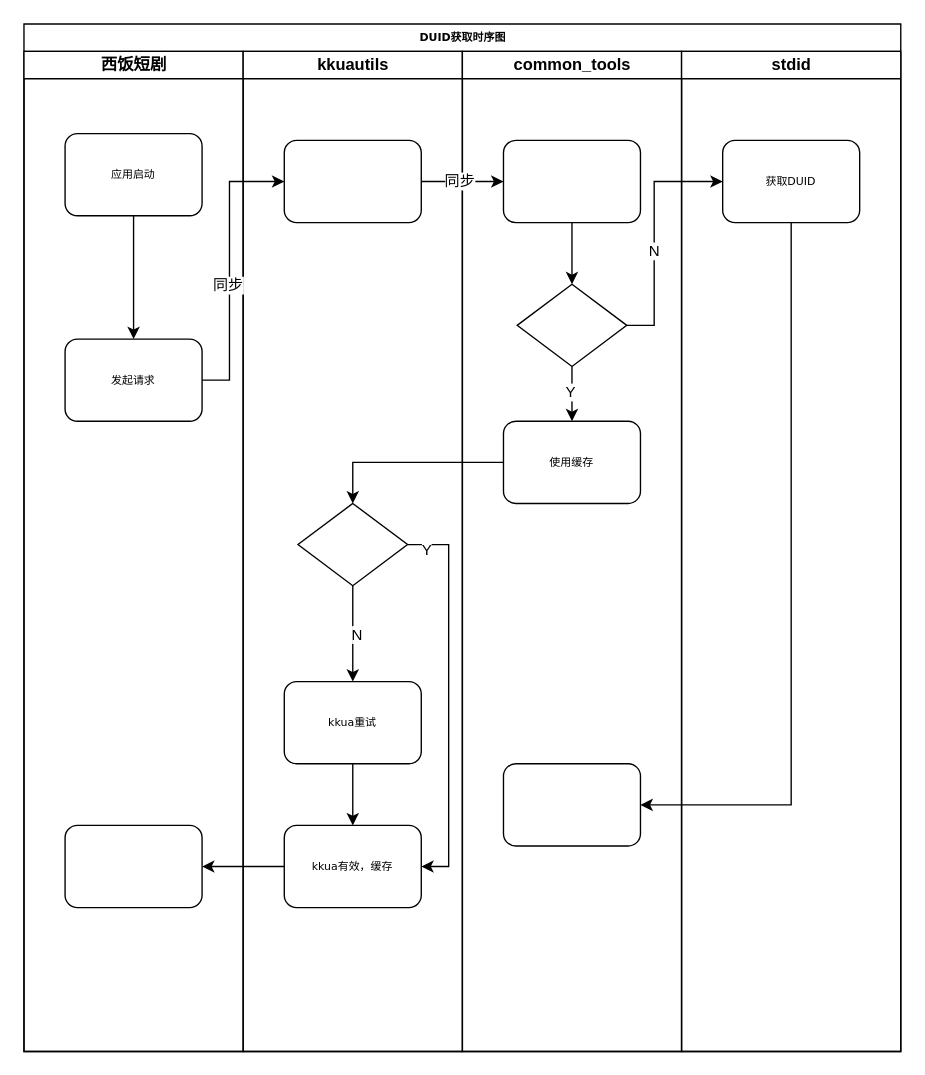
Image size: 925x1075. Some labels were removed from this diagram. Each missing label, with the centre of its shape:
kkua有效: the point at 352,544
有DUID缓存: the point at 571,324
组装kkua信息: the point at 571,181
缓存DUID: the point at 571,804
获取kkua: the point at 352,181
请求: the point at 133,866
